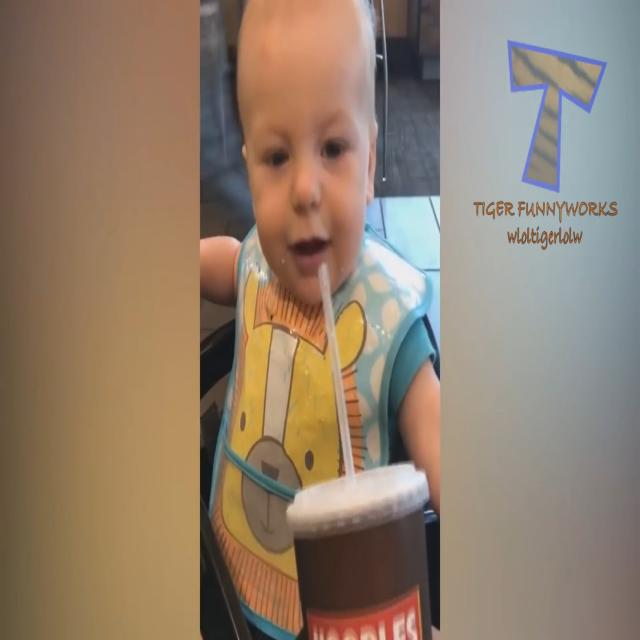safe: (200, 3, 420, 430)
